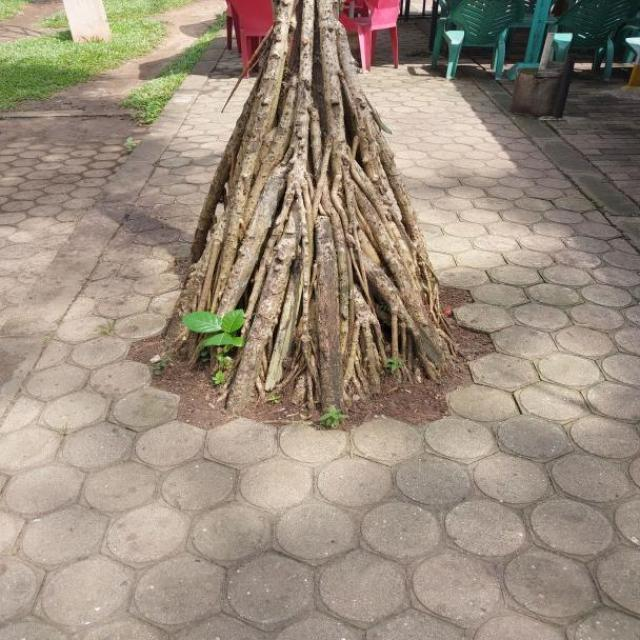tree ahead at: (186, 0, 463, 432)
